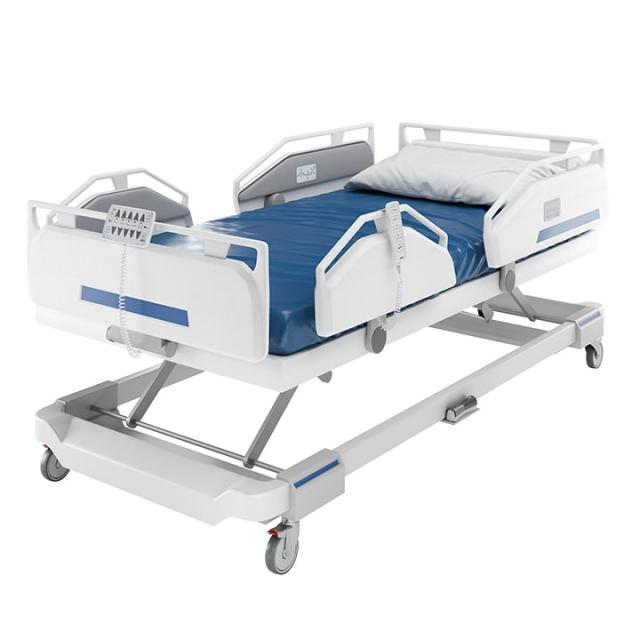patient_bed: (107, 93, 612, 411)
